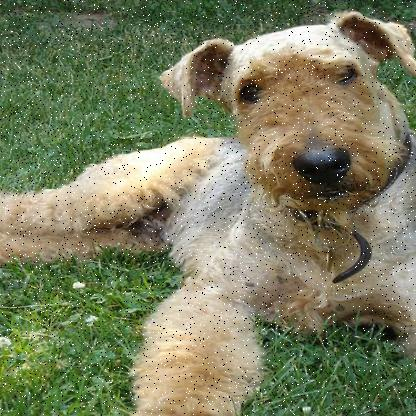dog: (74, 8, 415, 415)
